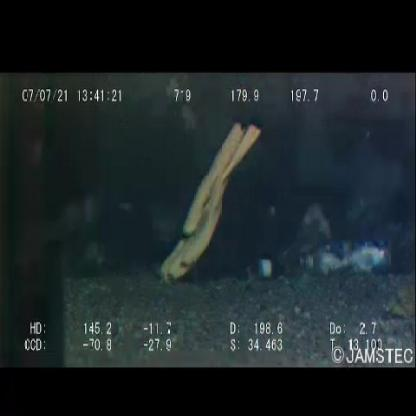Rác: (255, 238, 299, 290)
